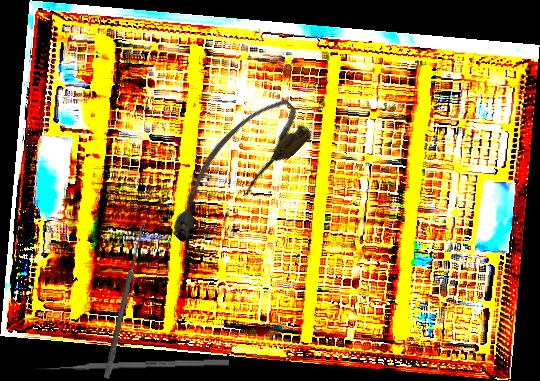Cannula: (148, 88, 318, 252)
Pusher: (34, 358, 230, 373)
Surgical Spoon: (103, 221, 147, 380)
